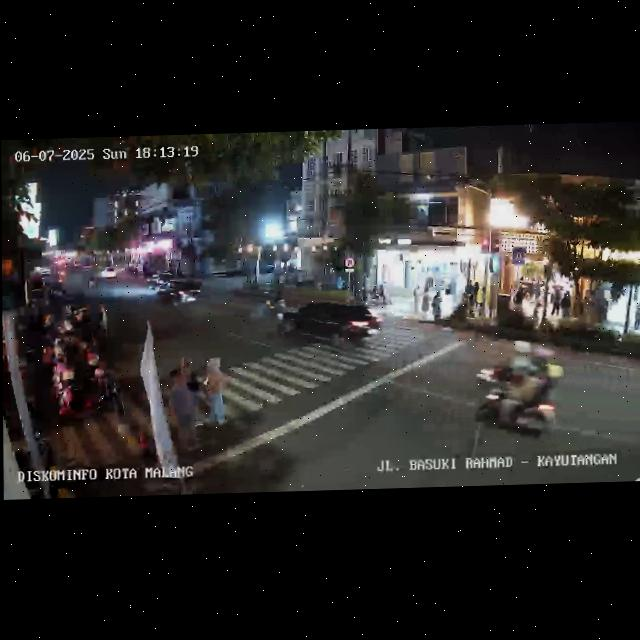car: (281, 297, 380, 352), (156, 275, 203, 306)
motorcycle: (474, 359, 560, 443)
person: (166, 366, 203, 476), (202, 357, 228, 427), (94, 301, 109, 337), (432, 289, 443, 323), (561, 288, 572, 319), (551, 286, 560, 319), (411, 284, 421, 313), (422, 285, 431, 314), (514, 286, 523, 314), (634, 303, 640, 332)
